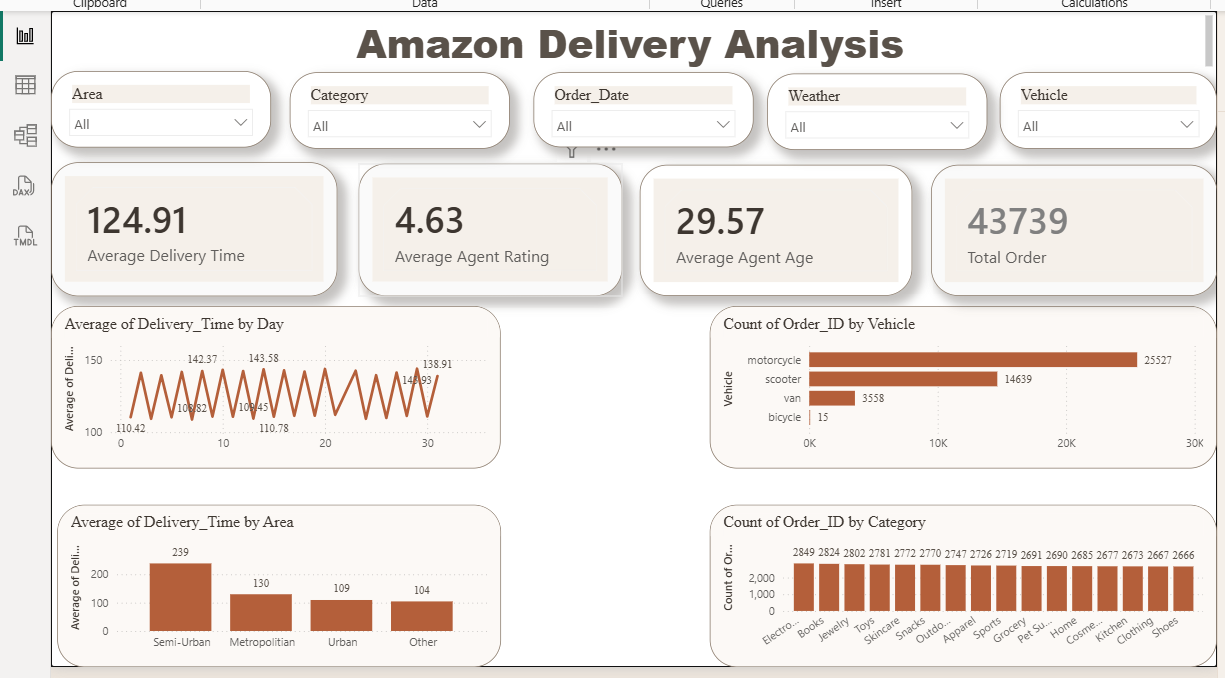

The dashboard page shown, as its layout file describes it:
{"tool":"powerbi","page":{"name":"Page 1","canvas":[1280,720],"ordinal":0},"visuals":[{"type":"cardVisual","fields":{"Data":["Avg(amazon_delivery.Agent_Rating)"]},"box":[337.6,167.4,289.5,145.5],"z":6},{"type":"cardVisual","fields":{"Data":["Avg(amazon_delivery.Delivery_Time)"]},"box":[0,166,314.2,146.8],"z":9},{"type":"cardVisual","fields":{"Data":["Avg(amazon_delivery.Agent_Age)"]},"box":[646.3,168.8,299.1,144.1],"z":10},{"type":"textbox","box":[0,0,1280.3,76.8],"z":11},{"type":"lineChart","fields":{"Category":["amazon_delivery.Order_Date.Variation.Date Hierarchy.Day"],"Y":["Avg(amazon_delivery.Delivery_Time)"]},"box":[0,323.8,494,178.4],"z":12},{"type":"clusteredColumnChart","fields":{"Category":["amazon_delivery.Category"],"Y":["Count(amazon_delivery.Order_ID)"]},"box":[723.2,542,557.1,178.4],"z":17},{"type":"clusteredColumnChart","fields":{"Category":["amazon_delivery.Area"],"Y":["Avg(amazon_delivery.Delivery_Time)"]},"box":[6.9,542,487.1,178.4],"z":18},{"type":"clusteredBarChart","fields":{"Category":["amazon_delivery.Vehicle"],"Y":["Count(amazon_delivery.Order_ID)"]},"box":[723.2,323.8,557.1,178.4],"z":19},{"type":"slicer","fields":{"Values":["amazon_delivery.Vehicle"]},"box":[1041.5,67.2,238.8,83.7],"z":20},{"type":"slicer","fields":{"Values":["amazon_delivery.Area"]},"box":[0,65.9,241.5,83.7],"z":21},{"type":"slicer","fields":{"Values":["amazon_delivery.Category"]},"box":[262.1,67.2,241.5,83.7],"z":22},{"type":"slicer","fields":{"Values":["amazon_delivery.Order_Date"]},"box":[529.7,67.2,241.5,82.3],"z":23},{"type":"slicer","fields":{"Values":["amazon_delivery.Weather"]},"box":[786.3,68.6,241.5,83.7],"z":24},{"type":"cardVisual","fields":{"Data":["Count(amazon_delivery.Order_ID)"]},"box":[966,168.8,314.2,144.1],"z":26}]}

Visuals, with their boxes on the page's 1280x720 design canvas (x1, y1, x2, y2). These are canvas units, not pixel positions in the 1225x678 screenshot, which may show the page scaled, cropped or inside an application window:
cardVisual - Avg(amazon_delivery.Agent_Rating): [x1=338, y1=167, x2=627, y2=313]
cardVisual - Avg(amazon_delivery.Delivery_Time): [x1=0, y1=166, x2=314, y2=313]
cardVisual - Avg(amazon_delivery.Agent_Age): [x1=646, y1=169, x2=945, y2=313]
textbox: [x1=0, y1=0, x2=1280, y2=77]
lineChart - amazon_delivery.Order_Date.Variation.Date Hierarchy.Day x Avg(amazon_delivery.Delivery_Time): [x1=0, y1=324, x2=494, y2=502]
clusteredColumnChart - amazon_delivery.Category x Count(amazon_delivery.Order_ID): [x1=723, y1=542, x2=1280, y2=720]
clusteredColumnChart - amazon_delivery.Area x Avg(amazon_delivery.Delivery_Time): [x1=7, y1=542, x2=494, y2=720]
clusteredBarChart - amazon_delivery.Vehicle x Count(amazon_delivery.Order_ID): [x1=723, y1=324, x2=1280, y2=502]
slicer - amazon_delivery.Vehicle: [x1=1042, y1=67, x2=1280, y2=151]
slicer - amazon_delivery.Area: [x1=0, y1=66, x2=242, y2=150]
slicer - amazon_delivery.Category: [x1=262, y1=67, x2=504, y2=151]
slicer - amazon_delivery.Order_Date: [x1=530, y1=67, x2=771, y2=150]
slicer - amazon_delivery.Weather: [x1=786, y1=69, x2=1028, y2=152]
cardVisual - Count(amazon_delivery.Order_ID): [x1=966, y1=169, x2=1280, y2=313]
